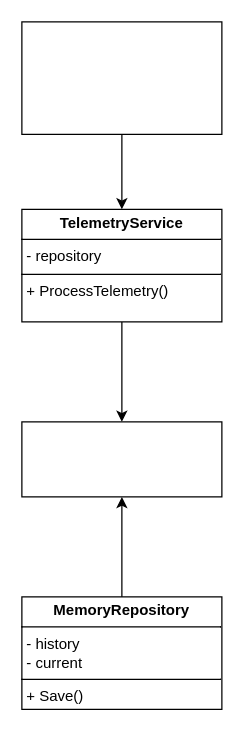
Image size: 244x731. Some labels were removed from this diagram. Each missing label, with the centre of its shape:
"Handler - service + Handle()" goes at (121,77).
"«interface» TelemetryRepository +Save()" goes at (121,459).
